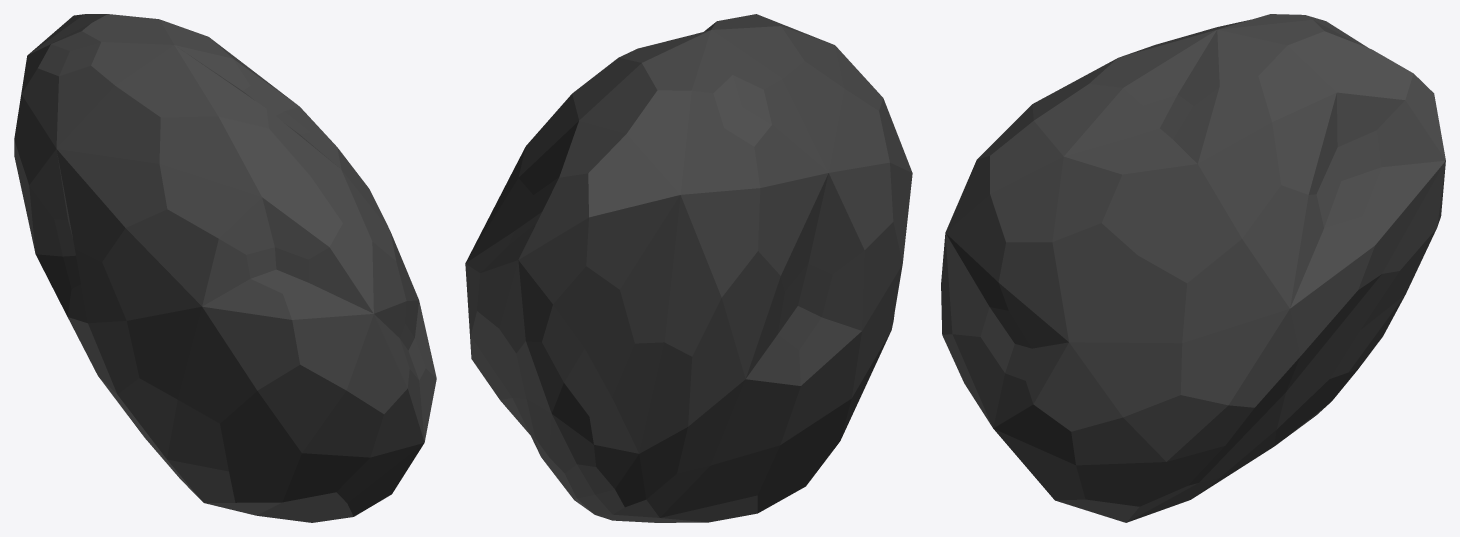
Rendered from Asteroid.006.fbx.
The picture shows the model from 3 angles, left to right: view 1: azimuth 30°, elevation 25°; view 2: azimuth 150°, elevation 25°; view 3: azimuth 270°, elevation 25°; orthographic projection. The views are drawn at different scales.
Visible parts, largest first — view 1: Asteroid.006; view 2: Asteroid.006; view 3: Asteroid.006.
Boxes of the visible parts, box(x1,y1,x2,y2) form: Asteroid.006: box(14, 14, 436, 522); Asteroid.006: box(465, 14, 912, 522); Asteroid.006: box(941, 14, 1445, 522).
Bounding box in the file's own units: 8.06 × 11.29 × 11.75.
